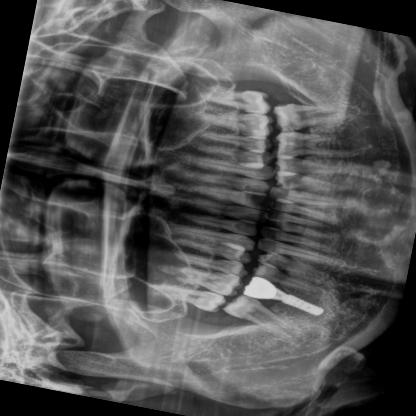ITI: (268, 288, 331, 319)
